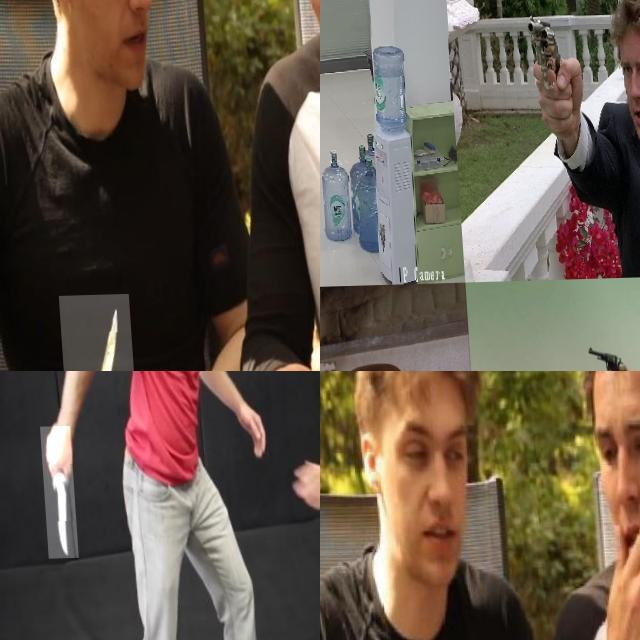-: (51, 294, 128, 371), (35, 426, 72, 560)
gun-knife-thesis - v11 Yolov5 augmented: (525, 18, 579, 132), (579, 341, 624, 371), (320, 0, 328, 49)
